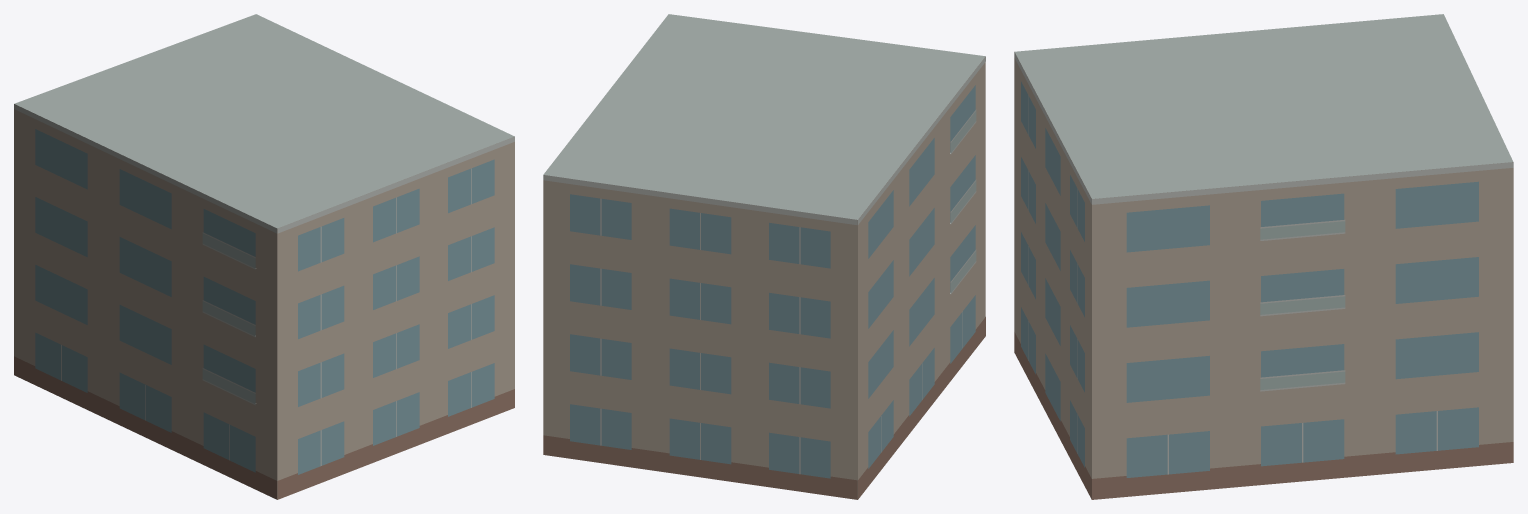
Rendered from survey-upis-33008824.glb.
3 views of the same model, side by side, from view 1: azimuth 30°, elevation 25°; view 2: azimuth 150°, elevation 25°; view 3: azimuth 270°, elevation 25° (orthographic). The views are drawn at different scales.
Parts seen in each view (by area): view 1: survey-upis-33008824.tmp; view 2: survey-upis-33008824.tmp; view 3: survey-upis-33008824.tmp.
Part boxes in pixels (<box>): survey-upis-33008824.tmp: <box>14,14,514,499</box>; survey-upis-33008824.tmp: <box>543,14,985,499</box>; survey-upis-33008824.tmp: <box>1014,14,1513,499</box>.
Bounding box in the file's own units: 16.74 × 12.68 × 19.07.
